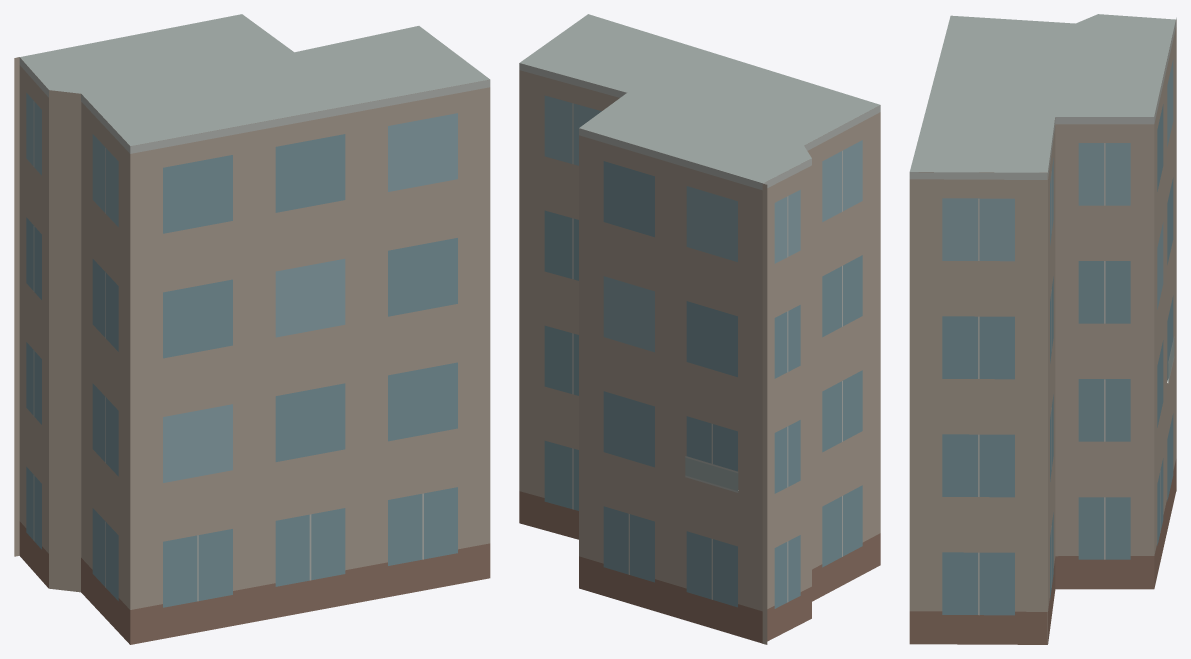
File: survey-upis-33032292.glb
The picture shows the model from 3 angles, left to right: view 1: azimuth 30°, elevation 25°; view 2: azimuth 150°, elevation 25°; view 3: azimuth 270°, elevation 25°; orthographic projection. The views are drawn at different scales.
Visible parts, largest first — view 1: survey-upis-33032292.tmp; view 2: survey-upis-33032292.tmp; view 3: survey-upis-33032292.tmp.
Part boxes in pixels (x1=…): survey-upis-33032292.tmp: x1=14, y1=14, x2=490, y2=644; survey-upis-33032292.tmp: x1=519, y1=14, x2=880, y2=644; survey-upis-33032292.tmp: x1=909, y1=14, x2=1176, y2=644.
Size of the model in its own units: 11.37 by 15.75 by 8.07.
